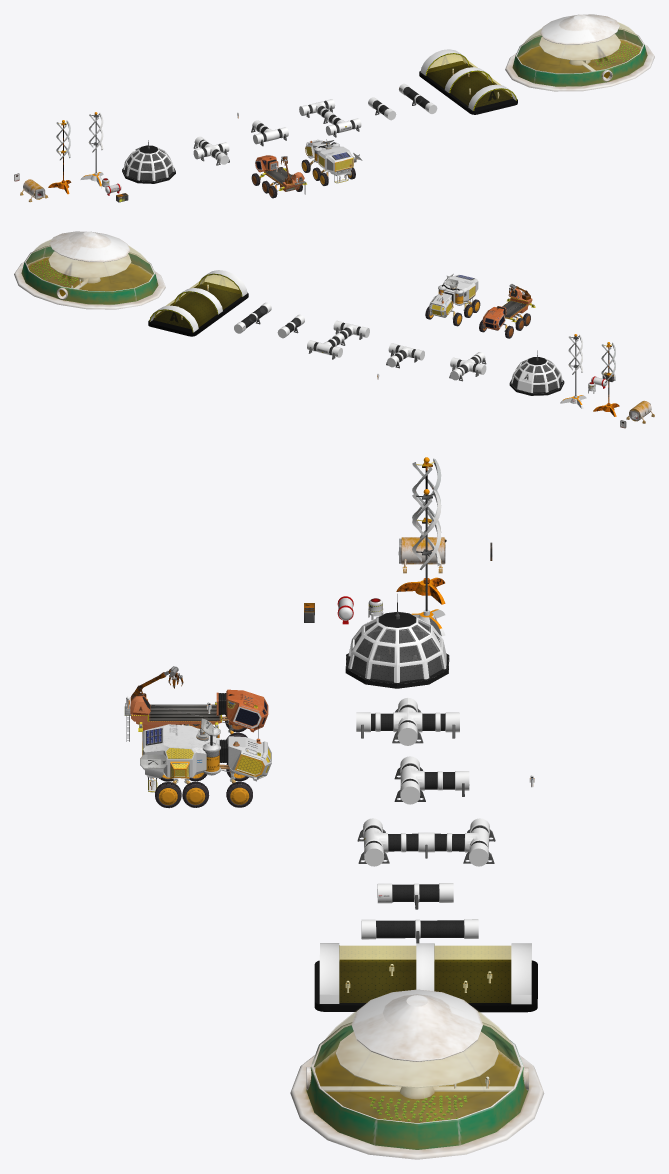
File: props_mars.glb
The picture shows the model from 3 angles, top to bottom: view 1: azimuth 30°, elevation 25°; view 2: azimuth 150°, elevation 25°; view 3: azimuth 270°, elevation 25°; orthographic projection. The views are drawn at different scales.
Visible parts, largest first — view 1: Cupula, Base, Invernadero, Vehiculo_1, Cupula1, Tubo_Doble_T, Tubo_X, Tubo_T, Molino, Molino1, Tubo_Largo, Plataforma_Camion (+1 smaller); view 2: Cupula, Base, Invernadero, Vehiculo_1, Cupula1, Tubo_Doble_T, Tubo_X, Tubo_T, Molino, Molino1, Cabina, Tubo_Largo (+2 smaller); view 3: Cupula, Base, Invernadero, Vehiculo_1, Cupula1, Tubo_Doble_T, Tubo_X, Tubo_Largo, Tubo_T, Molino, Cabina, Plataforma_Camion (+2 smaller).
Part boxes in pixels (bbox=[...]): Cupula: bbox=[512, 14, 647, 86]; Base: bbox=[505, 34, 654, 91]; Invernadero: bbox=[419, 49, 517, 114]; Vehiculo_1: bbox=[301, 139, 362, 185]; Cupula1: bbox=[122, 140, 175, 183]; Tubo_Doble_T: bbox=[299, 99, 361, 137]; Tubo_X: bbox=[193, 136, 229, 165]; Tubo_T: bbox=[251, 120, 288, 146]; Molino: bbox=[80, 112, 103, 186]; Molino1: bbox=[48, 120, 71, 194]; Tubo_Largo: bbox=[399, 83, 437, 113]; Plataforma_Camion: bbox=[264, 167, 303, 188]; Cupula: bbox=[21, 231, 158, 304]; Base: bbox=[14, 251, 165, 309]; Invernadero: bbox=[148, 270, 248, 336]; Vehiculo_1: bbox=[425, 273, 480, 326]; Cupula1: bbox=[509, 350, 564, 395]; Tubo_Doble_T: bbox=[307, 320, 369, 359]; Tubo_X: bbox=[449, 352, 486, 381]; Tubo_T: bbox=[386, 343, 424, 368]; Molino: bbox=[560, 334, 586, 408]; Molino1: bbox=[593, 342, 619, 416]; Cabina: bbox=[482, 306, 505, 330]; Tubo_Largo: bbox=[234, 302, 271, 333]; Cupula: bbox=[306, 989, 528, 1149]; Base: bbox=[290, 1031, 544, 1159]; Invernadero: bbox=[314, 943, 537, 1012]; Vehiculo_1: bbox=[140, 718, 271, 808]; Cupula1: bbox=[345, 594, 449, 688]; Tubo_Doble_T: bbox=[357, 818, 495, 866]; Tubo_X: bbox=[356, 698, 459, 745]; Tubo_Largo: bbox=[361, 919, 478, 943]; Tubo_T: bbox=[394, 756, 469, 804]; Molino: bbox=[411, 489, 445, 636]; Cabina: bbox=[218, 689, 268, 732]; Plataforma_Camion: bbox=[131, 699, 221, 724].
Size of the model in its own units: 2124 by 224 by 621.
46 materials, 43 textured.
